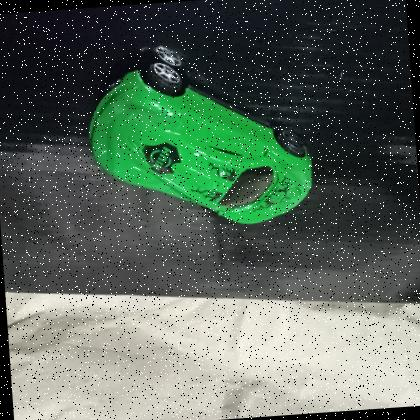Car: (80, 47, 324, 240)
